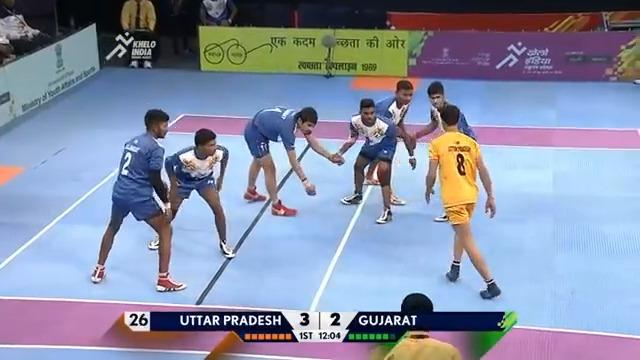Player: (89, 106, 188, 293), (147, 126, 237, 259), (240, 102, 342, 218), (333, 96, 410, 225), (364, 79, 416, 205), (422, 83, 479, 125)
Raider: (422, 102, 503, 300)
referee: (380, 292, 462, 359), (119, 0, 158, 68)
